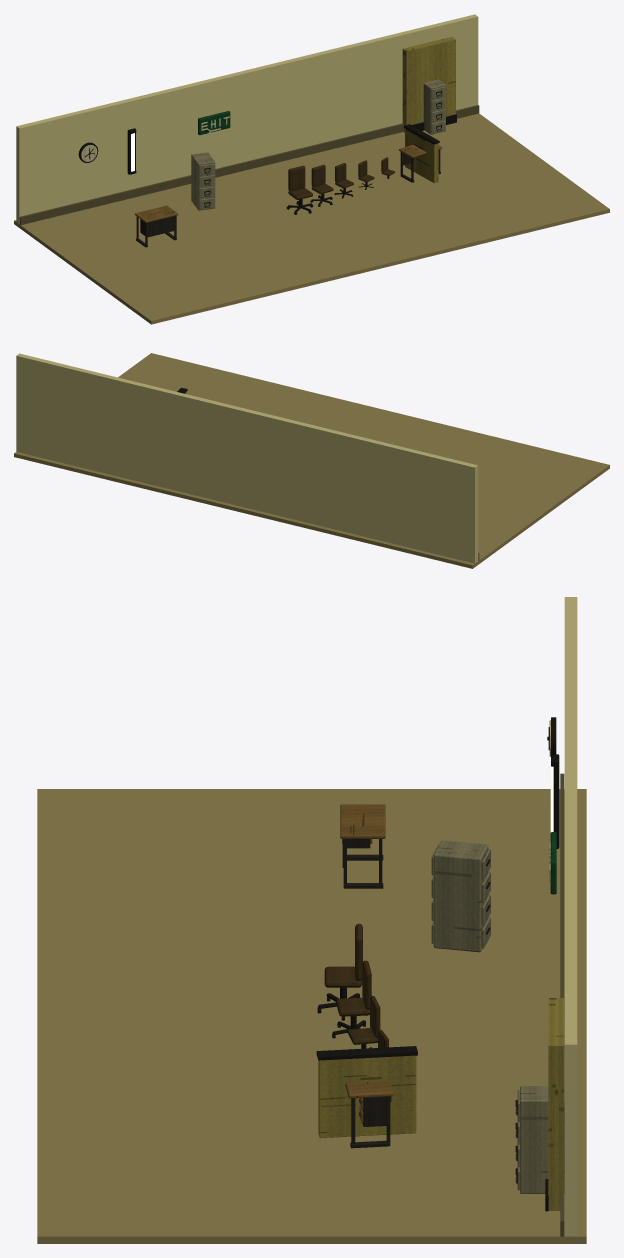
Rendered from backrooms-anomaly-kit-review.glb.
The picture shows the model from 3 angles, top to bottom: view 1: azimuth 30°, elevation 25°; view 2: azimuth 150°, elevation 25°; view 3: azimuth 270°, elevation 25°; orthographic projection. The views are drawn at different scales.
Parts seen in each view (by area): view 1: SM_QA_Phase7Floor, SM_QA_Phase7BackWall, QA_backrooms_wall_clipped_filing_cabinet_SM_backrooms_wall_c (×2), SM_QA_Phase7BaseTrim, QA_backrooms_impossible_filing_cabinet_SM_backrooms_impossib, QA_backrooms_half_wall_bisected_desk_SM_backrooms_half_wall_, QA_backrooms_recursive_chair_SM_backrooms_recursive_chair_An (×2), QA_backrooms_backwards_desk_SM_backrooms_backwards_desk_Desk, QA_backrooms_wrong_exit_sign_SM_backrooms_wrong_exit_sign_An, QA_backrooms_backwards_desk_SM_backrooms_backwards_desk_Worn; view 2: SM_QA_Phase7BackWall, SM_QA_Phase7Floor; view 3: SM_QA_Phase7Floor, QA_backrooms_half_wall_bisected_desk_SM_backrooms_half_wall_ (×4), SM_QA_Phase7BackWall, QA_backrooms_wall_clipped_filing_cabinet_SM_backrooms_wall_c (×2), QA_backrooms_impossible_filing_cabinet_SM_backrooms_impossib, QA_backrooms_recursive_chair_SM_backrooms_recursive_chair_An (×2), QA_backrooms_backwards_desk_SM_backrooms_backwards_desk_Worn, SM_QA_Phase7BaseTrim, QA_backrooms_backwards_desk_SM_backrooms_backwards_desk_Desk.
Part boxes in pixels (x1=…): SM_QA_Phase7Floor: x1=14, y1=113, x2=609, y2=324; SM_QA_Phase7BackWall: x1=16, y1=14, x2=478, y2=224; QA_backrooms_wall_clipped_filing_cabinet_SM_backrooms_wall_c (×2): x1=402, y1=37, x2=455, y2=134; SM_QA_Phase7BaseTrim: x1=19, y1=105, x2=479, y2=225; QA_backrooms_impossible_filing_cabinet_SM_backrooms_impossib: x1=191, y1=152, x2=215, y2=210; QA_backrooms_half_wall_bisected_desk_SM_backrooms_half_wall_: x1=405, y1=128, x2=438, y2=183; QA_backrooms_recursive_chair_SM_backrooms_recursive_chair_An (×2): x1=288, y1=164, x2=333, y2=199; QA_backrooms_backwards_desk_SM_backrooms_backwards_desk_Desk: x1=136, y1=215, x2=176, y2=247; QA_backrooms_wrong_exit_sign_SM_backrooms_wrong_exit_sign_An: x1=198, y1=111, x2=230, y2=135; QA_backrooms_backwards_desk_SM_backrooms_backwards_desk_Worn: x1=135, y1=205, x2=178, y2=222; SM_QA_Phase7BackWall: x1=16, y1=353, x2=478, y2=563; SM_QA_Phase7Floor: x1=14, y1=353, x2=609, y2=568; SM_QA_Phase7Floor: x1=37, y1=789, x2=586, y2=1243; QA_backrooms_half_wall_bisected_desk_SM_backrooms_half_wall_ (×4): x1=316, y1=1046, x2=417, y2=1148; SM_QA_Phase7BackWall: x1=564, y1=597, x2=577, y2=1236; QA_backrooms_wall_clipped_filing_cabinet_SM_backrooms_wall_c (×2): x1=515, y1=998, x2=564, y2=1210; QA_backrooms_impossible_filing_cabinet_SM_backrooms_impossib: x1=431, y1=840, x2=490, y2=952; QA_backrooms_recursive_chair_SM_backrooms_recursive_chair_An (×2): x1=324, y1=923, x2=371, y2=1016; QA_backrooms_backwards_desk_SM_backrooms_backwards_desk_Worn: x1=340, y1=804, x2=385, y2=843; SM_QA_Phase7BaseTrim: x1=560, y1=773, x2=564, y2=1236; QA_backrooms_backwards_desk_SM_backrooms_backwards_desk_Desk: x1=342, y1=839, x2=383, y2=888.
Size of the model in its own units: 13.5 by 2.8 by 7.
Materials: 13 (10 with a texture image).
